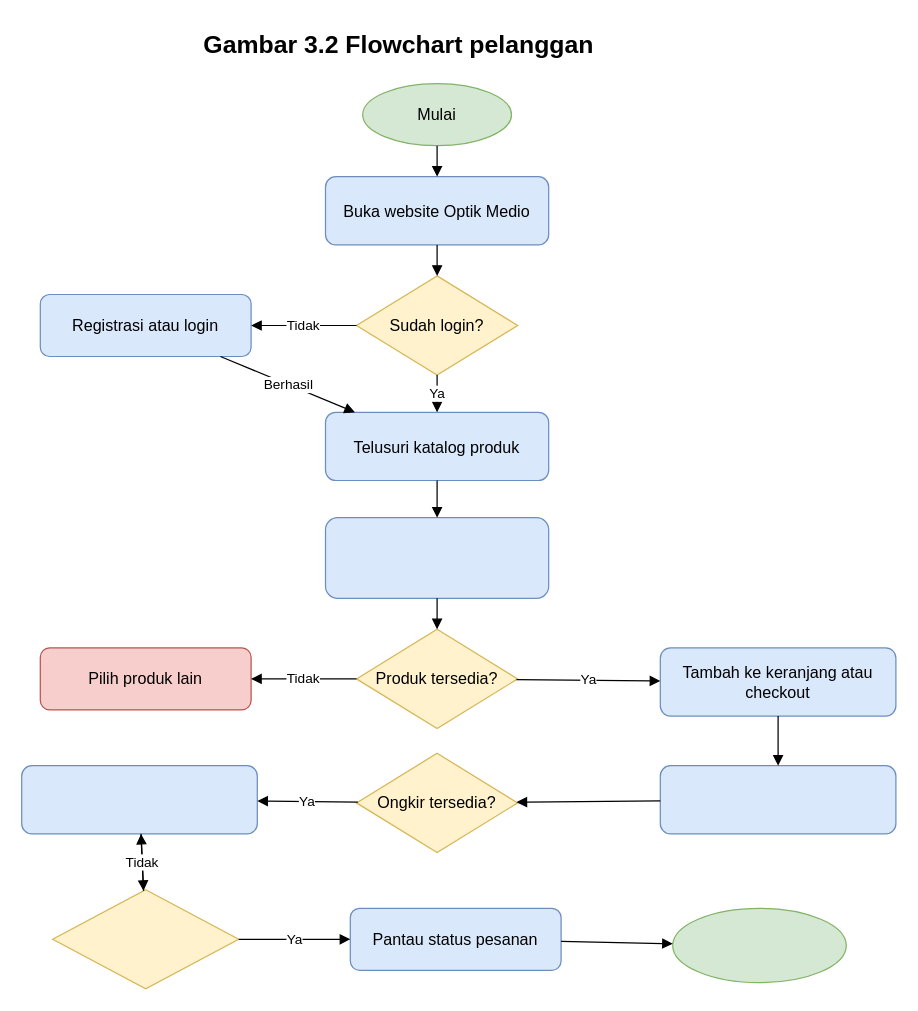
This 918x1011 diagram has some shape labels left out. The shapes that lost their labels are listed below. From the top down, each one's box as (x1, y1, x2, y2) in pixels, then its label:
(324, 516, 549, 598): Lihat detail produk dan resep optik bila perlu
(20, 764, 257, 834): Buat pesanan dan invoice Xendit
(659, 764, 896, 834): Pilih alamat dan ekspedisi
(51, 888, 239, 989): Pembayaran berhasil?
(671, 907, 846, 983): Pesanan diterima Selesai
